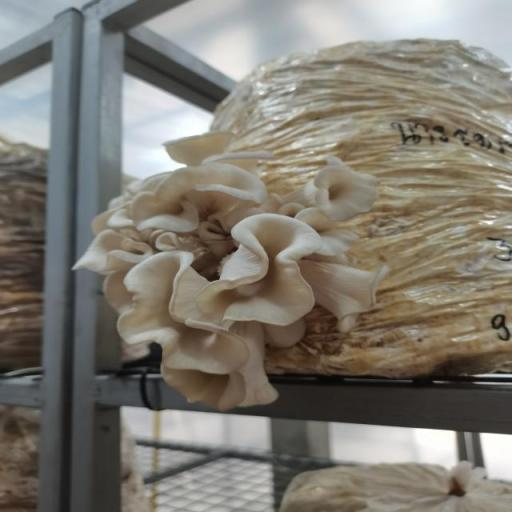White Oyster Mushroom: (72, 126, 390, 416)
